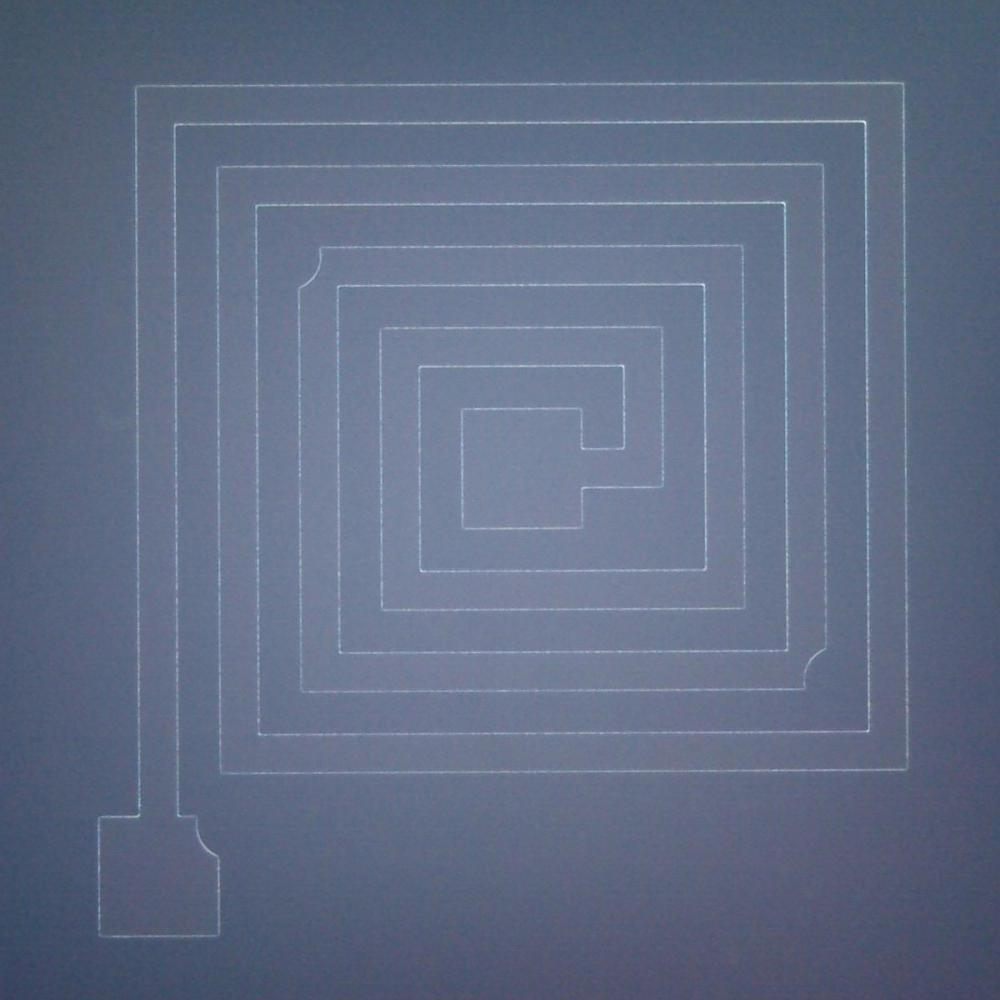curve circuit: (792, 642, 842, 704), (286, 243, 333, 300), (186, 810, 230, 866)
